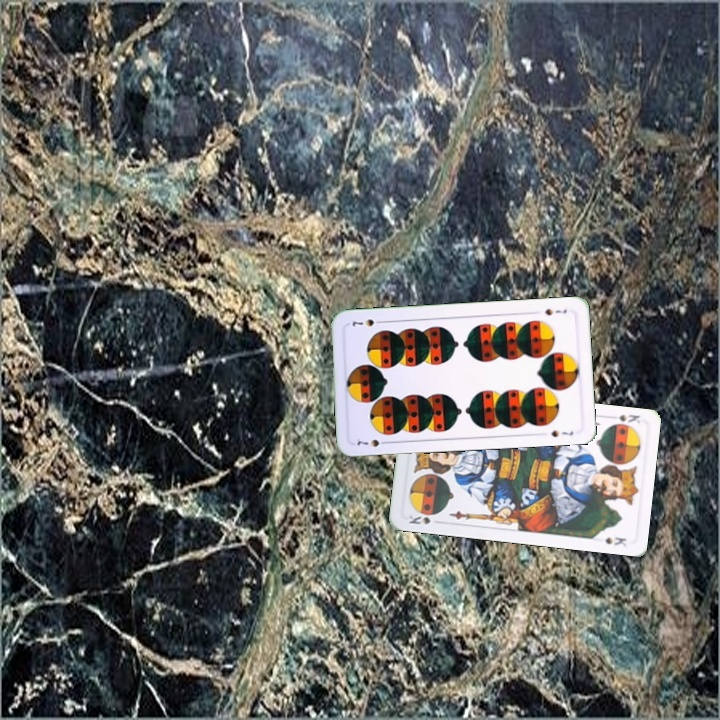S7: (353, 435, 392, 450), (541, 305, 569, 318)
SK: (604, 410, 643, 426), (405, 511, 433, 527)
